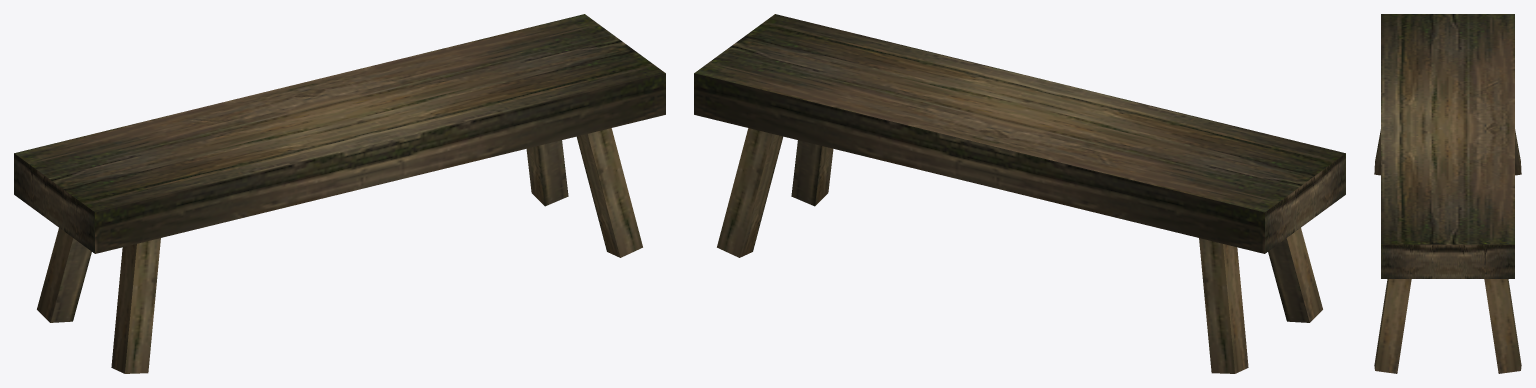
The model's file is a_wujian_dengzi.fbx.
The picture shows the model from 3 angles, left to right: view 1: azimuth 30°, elevation 25°; view 2: azimuth 150°, elevation 25°; view 3: azimuth 270°, elevation 25°; orthographic projection. The views are drawn at different scales.
Parts seen in each view (by area): view 1: a_wujian_dengzi; view 2: a_wujian_dengzi; view 3: a_wujian_dengzi.
Part boxes in pixels (x1,y1,x2,y2): a_wujian_dengzi: [14, 14, 665, 373]; a_wujian_dengzi: [694, 14, 1345, 373]; a_wujian_dengzi: [1374, 14, 1521, 373].
Bounding box in the file's own units: 2.16 × 0.6268 × 0.5818.
